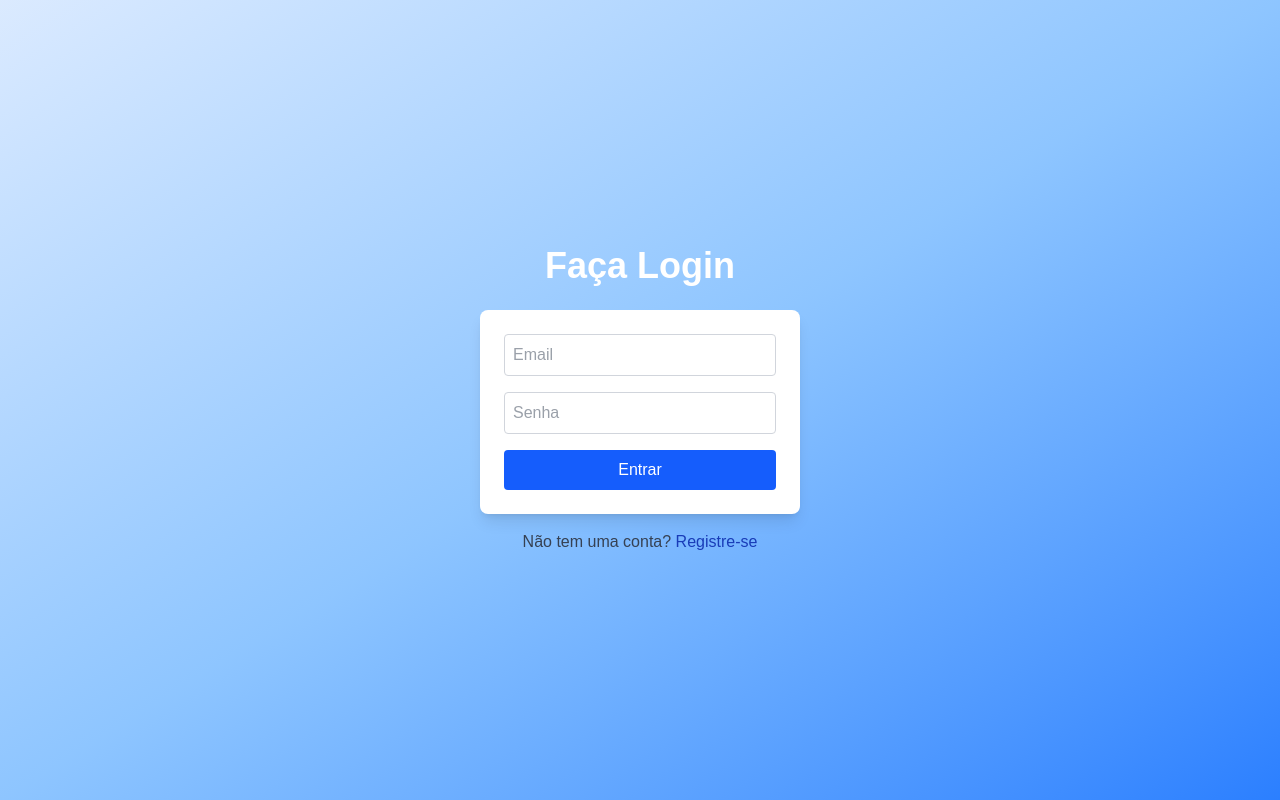
Test case: LoginPage › shows an error message when login fails
Type "test@example.com" into the field with placeholder "Email" at (640, 355), box [504,334,776,376]
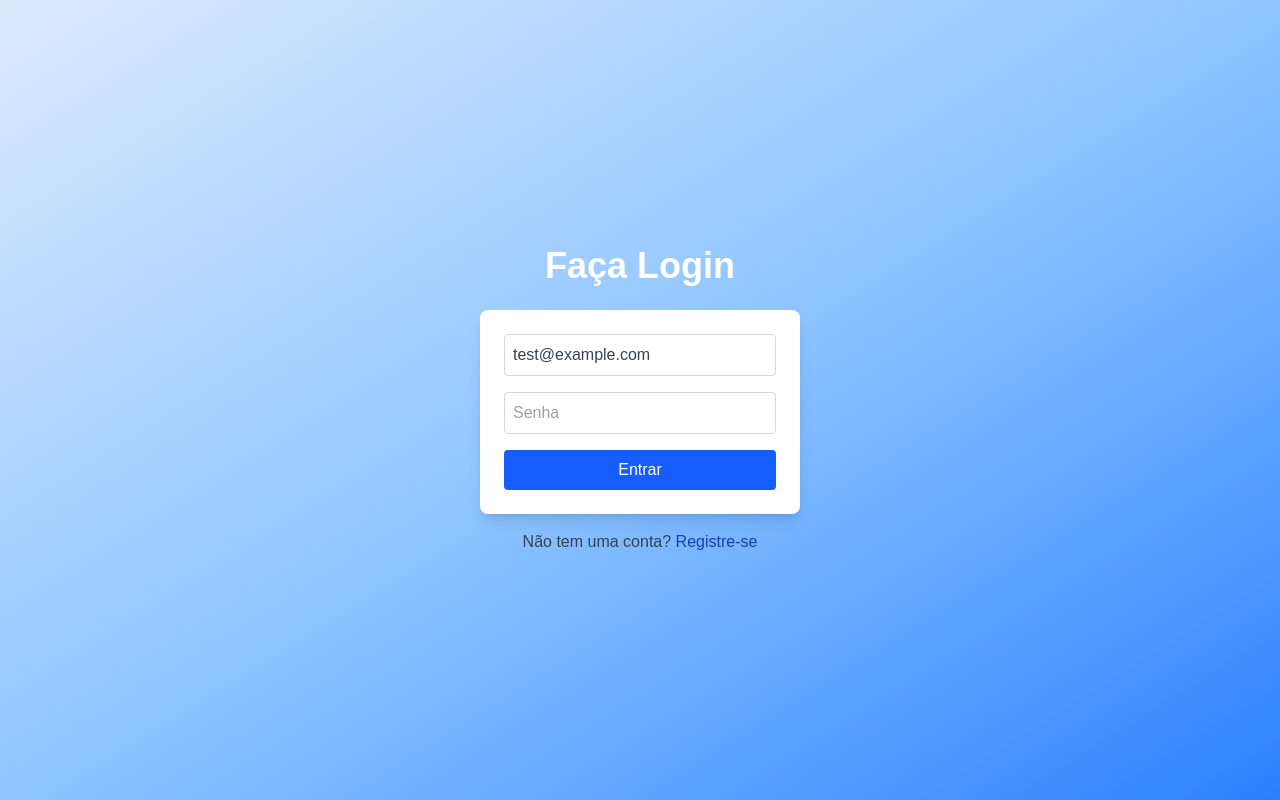
Type "wrongpassword" into the password field with placeholder "Senha" at (640, 413), box [504,392,776,434]
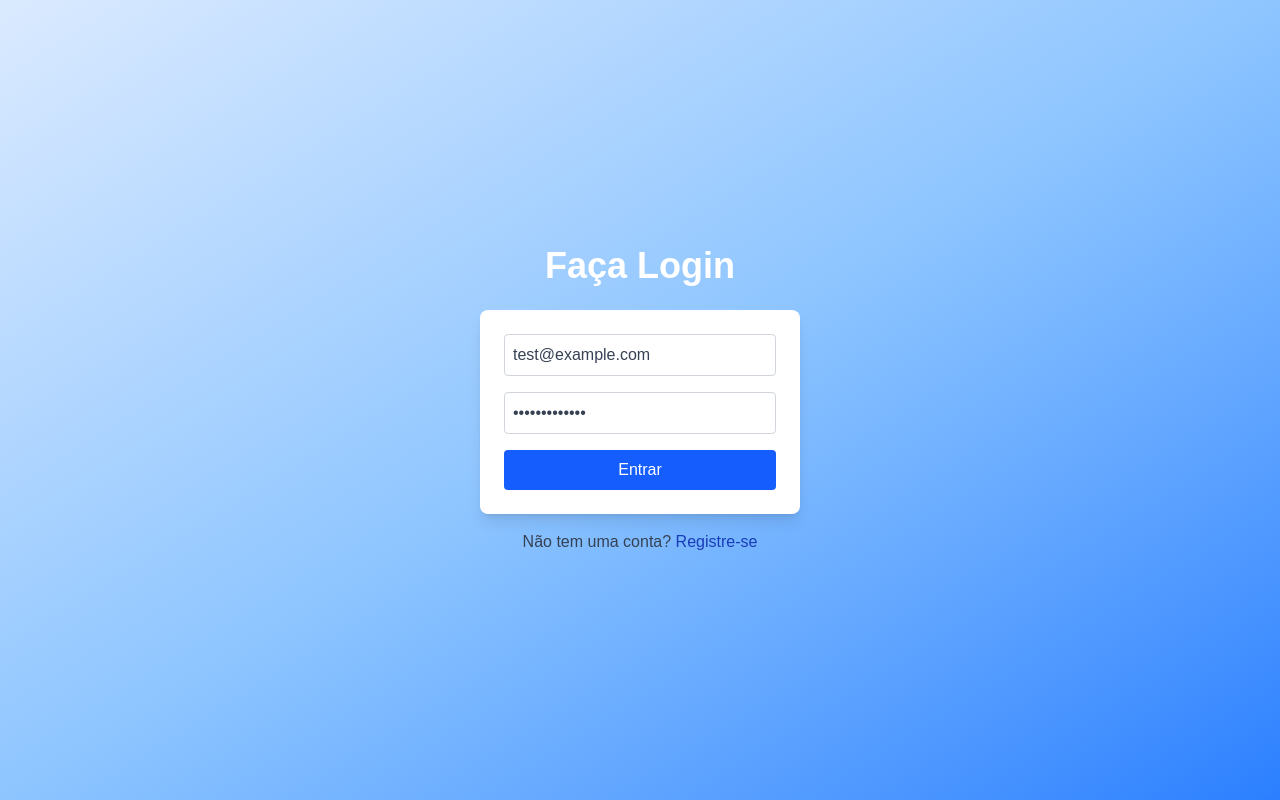
Click the button "Entrar" at (640, 470), box [504,450,776,490]
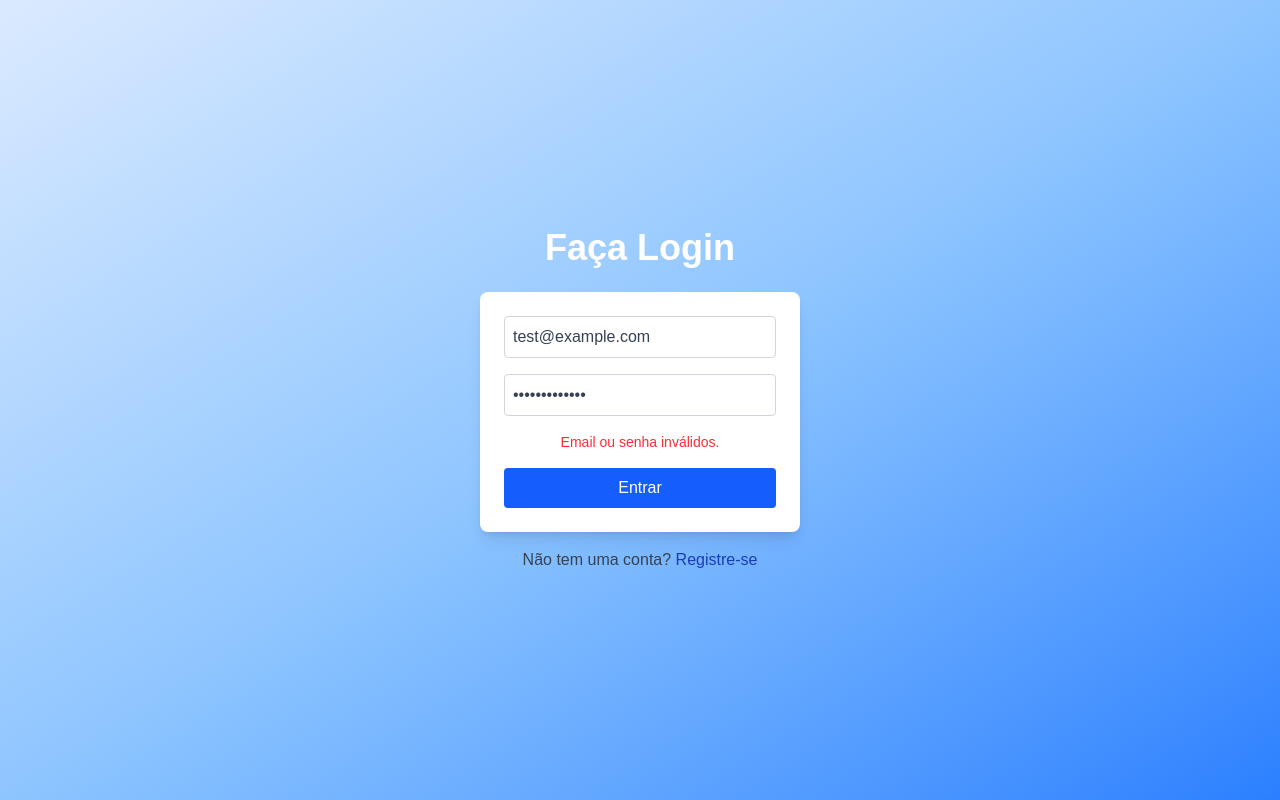
expect the text "Email ou senha inválidos." is shown: met, box [561,434,719,450]
